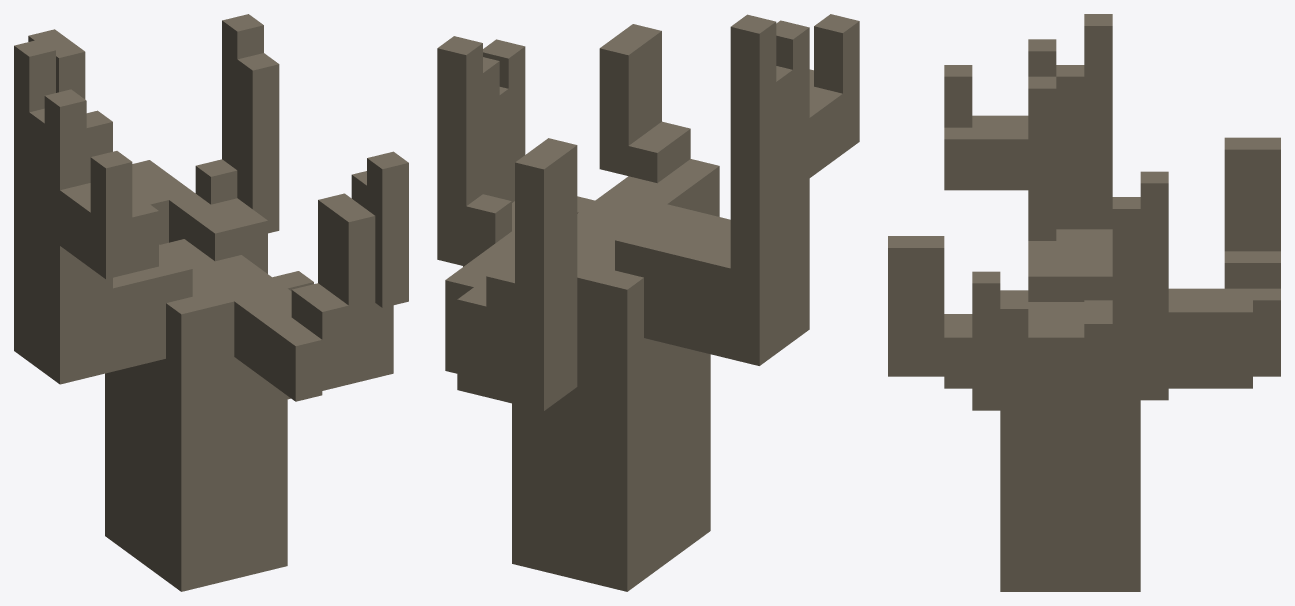
File: dead_tree_3.obj
The picture shows the model from 3 angles, left to right: view 1: azimuth 30°, elevation 25°; view 2: azimuth 150°, elevation 25°; view 3: azimuth 270°, elevation 25°; orthographic projection. The views are drawn at different scales.
Bounding box in the file's own units: 12 × 19 × 14.
1 material, 1 textured.
